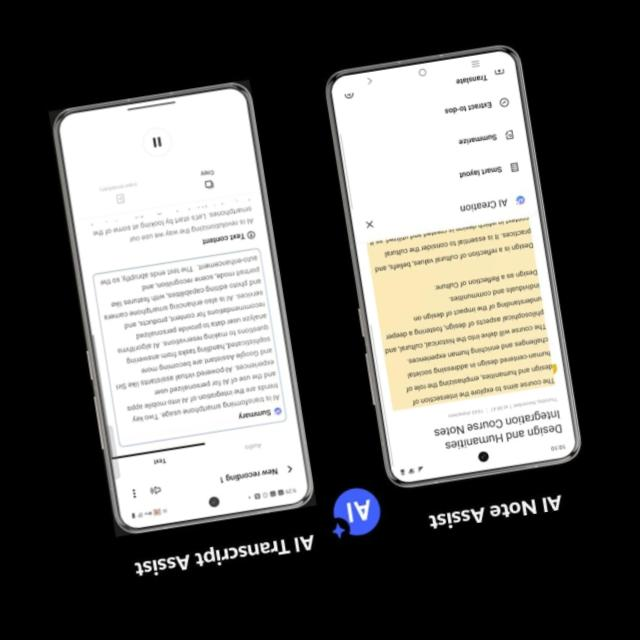mobile_phone: (286, 31, 592, 499), (32, 66, 324, 541)
